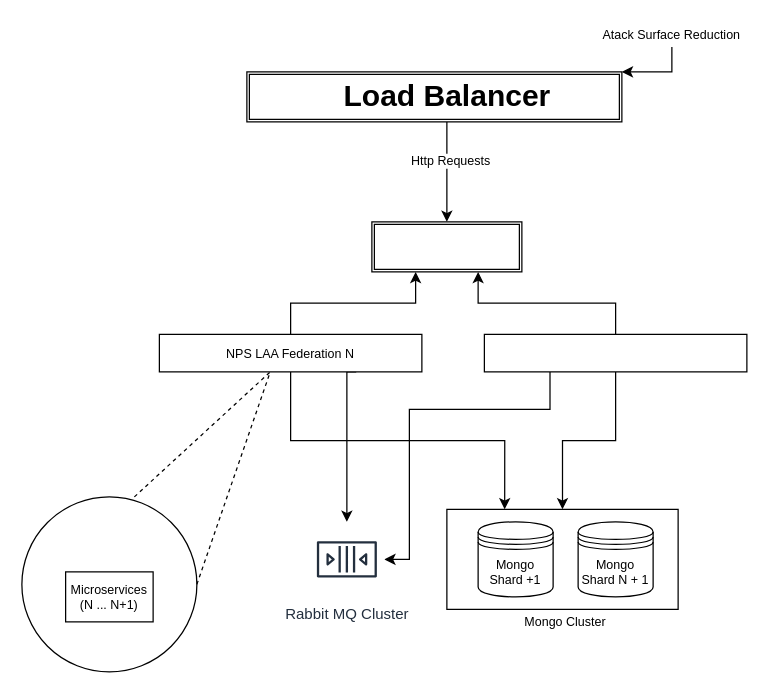
Image size: 781x694. Some labels were removed from this diagram. Here are the shapes that lost their labels. From the top down, the box of each, then its label:
(371, 221, 522, 272): Consul
(483, 333, 747, 372): NPS LAA Federation N + 1
